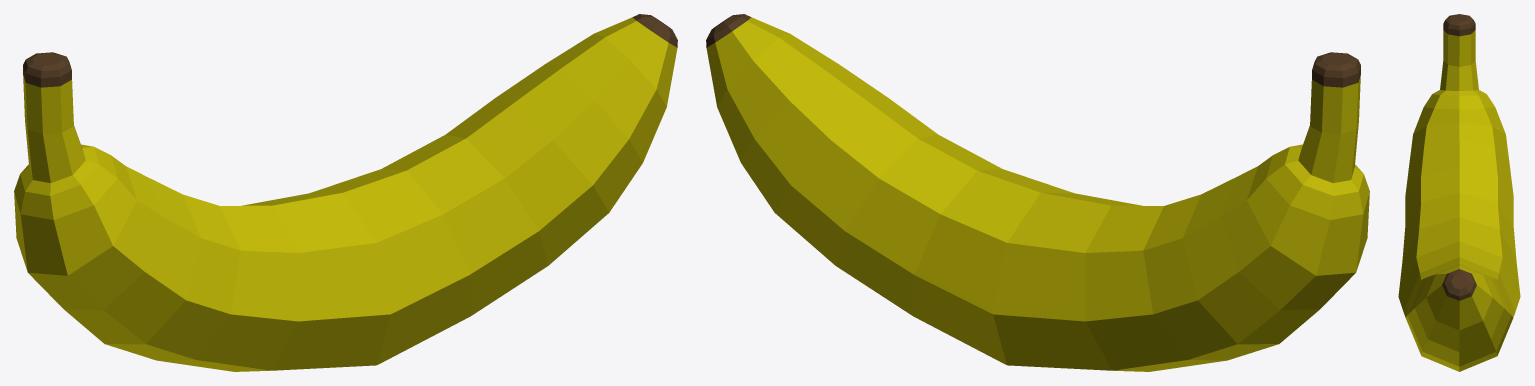
The model's file is Banana_01.fbx.
The picture shows the model from 3 angles, left to right: view 1: azimuth 30°, elevation 25°; view 2: azimuth 150°, elevation 25°; view 3: azimuth 270°, elevation 25°; orthographic projection. The views are drawn at different scales.
Visible parts, largest first — view 1: Banana_01; view 2: Banana_01; view 3: Banana_01.
Boxes of the visible parts, bbox=[...] form: Banana_01: bbox=[14, 14, 677, 371]; Banana_01: bbox=[706, 14, 1369, 371]; Banana_01: bbox=[1398, 14, 1520, 371].
Bounding box in the file's own units: 52.61 × 29.17 × 13.34.
